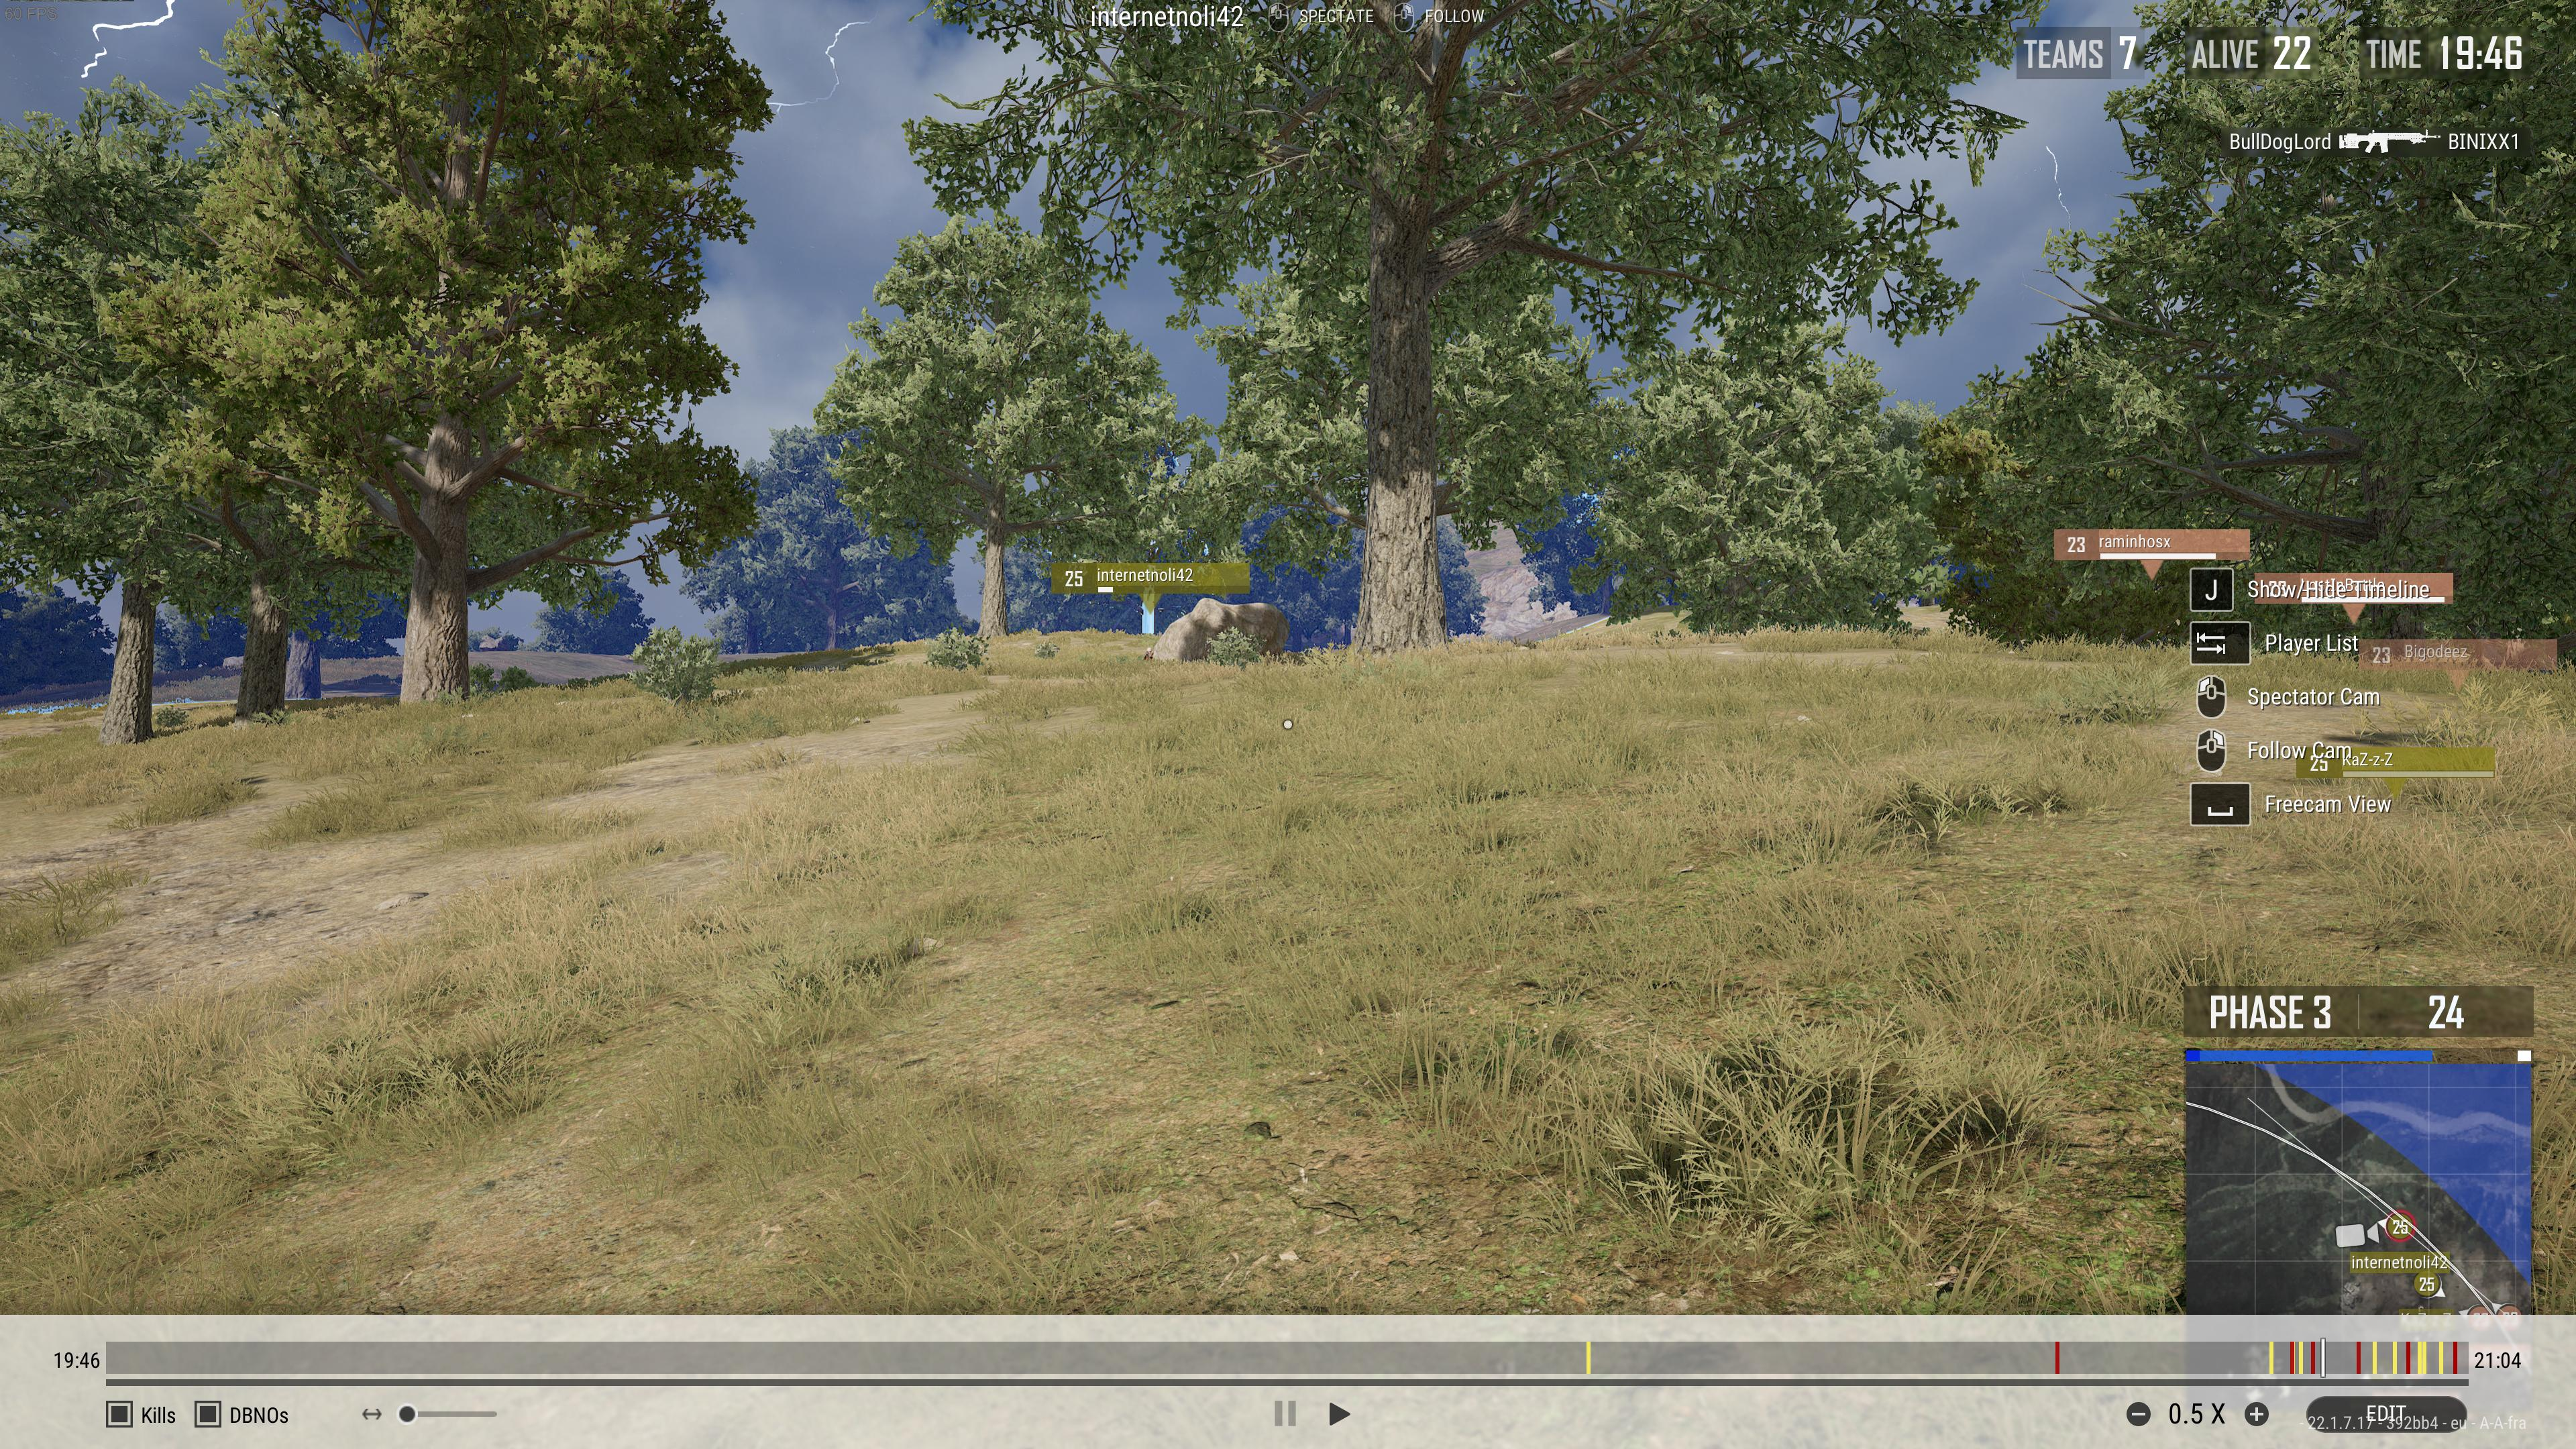enemy: (1143, 648, 1154, 660)
enemy_head: (1145, 648, 1152, 655)
